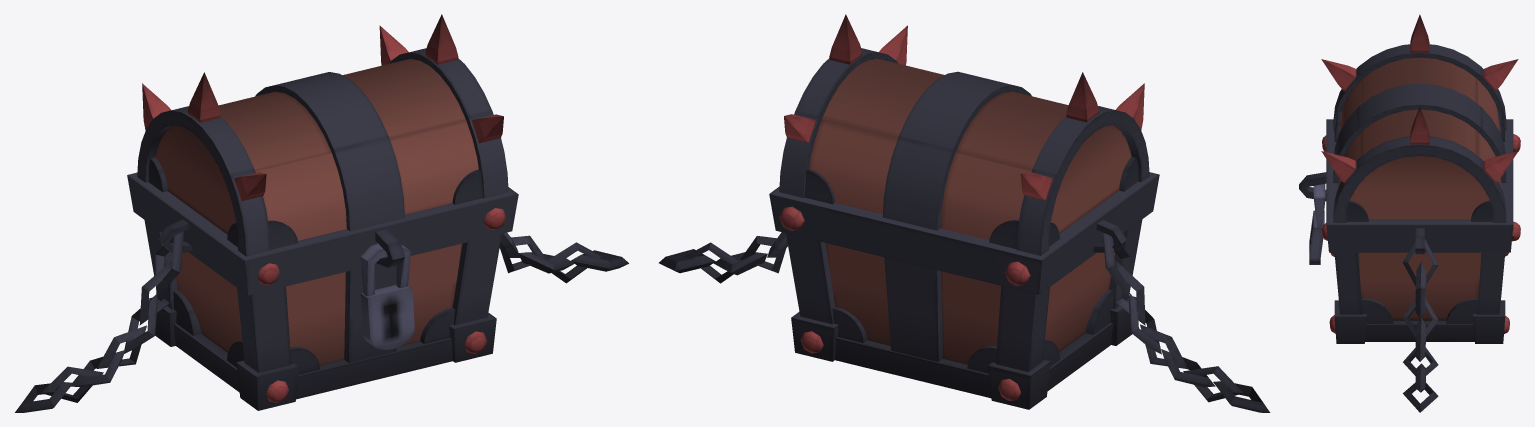
File: BauAreaVermelha.fbx
3 renders of one model, left to right at view 1: azimuth 30°, elevation 25°; view 2: azimuth 150°, elevation 25°; view 3: azimuth 270°, elevation 25°, orthographic. The views are drawn at different scales.
Parts seen in each view (by area): view 1: Bau Área Vermelha; view 2: Bau Área Vermelha; view 3: Bau Área Vermelha.
Boxes of the visible parts, <box> form: Bau Área Vermelha: <box>15,14,628,412</box>; Bau Área Vermelha: <box>659,14,1270,412</box>; Bau Área Vermelha: <box>1299,14,1520,412</box>.
Bounding box in the file's own units: 156 × 73.13 × 61.55.
